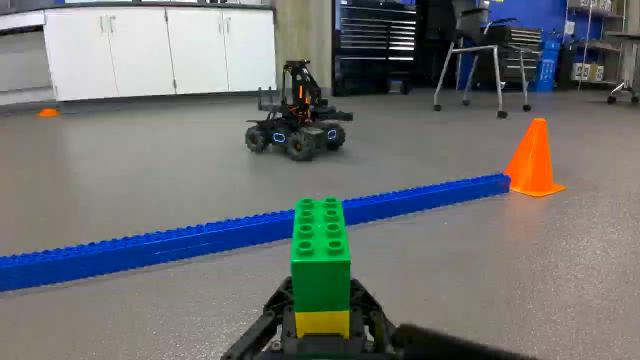robot: (239, 55, 359, 162)
